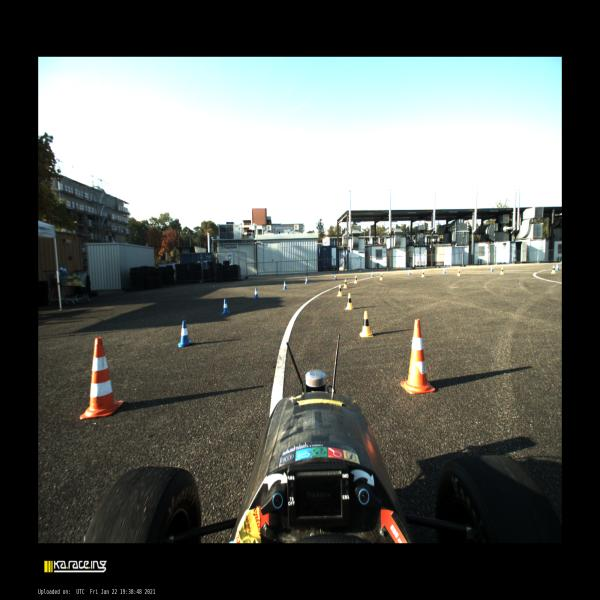blue_cone: (177, 320, 193, 348), (221, 299, 230, 316), (254, 288, 259, 300), (282, 280, 288, 290), (554, 263, 560, 271), (490, 266, 494, 272), (305, 277, 308, 284), (443, 267, 446, 274), (334, 274, 337, 280), (371, 271, 374, 277), (408, 269, 411, 275)
large_orange_cone: (78, 337, 124, 421), (400, 318, 436, 396)
yellow_cone: (359, 311, 374, 338), (344, 293, 353, 311), (336, 284, 343, 297), (550, 265, 556, 274), (342, 279, 347, 289), (354, 275, 358, 284), (379, 272, 383, 280), (500, 267, 504, 275), (421, 270, 424, 277), (457, 269, 460, 276)
